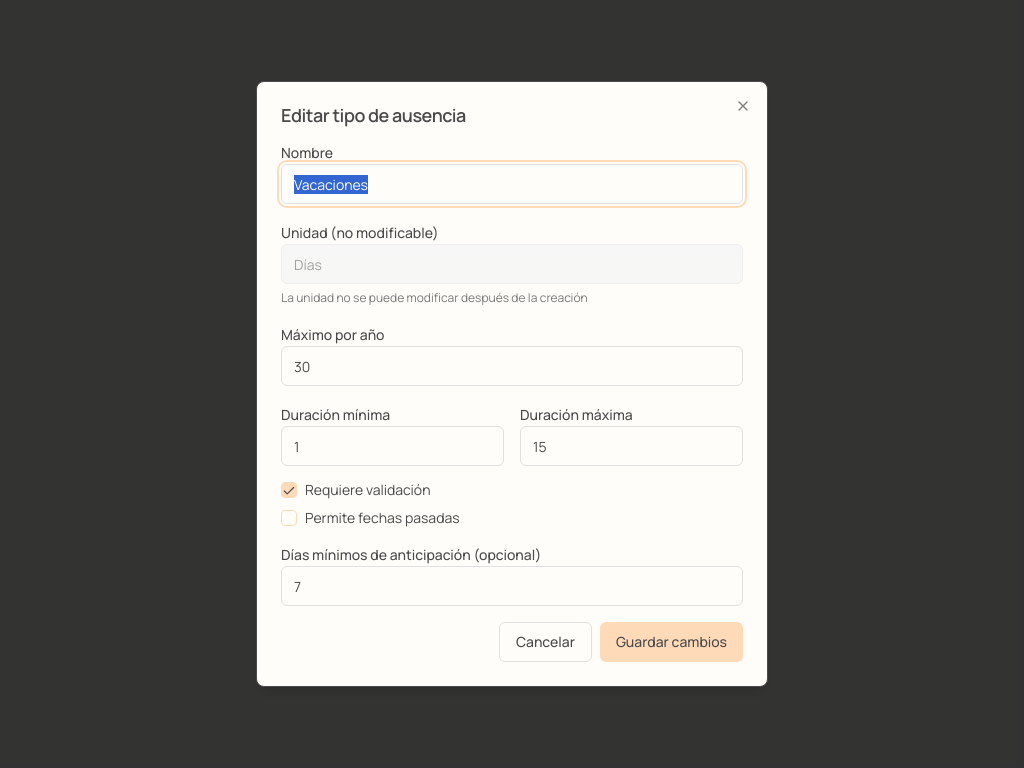
Test case: AbsenceTypeFormDialog: modo editar › muestra error si maxDuration < minDuration en modo edición
Replace the text in the number field labelled "Duración máxima" with "0.5" at (632, 446), box [520,426,743,466]
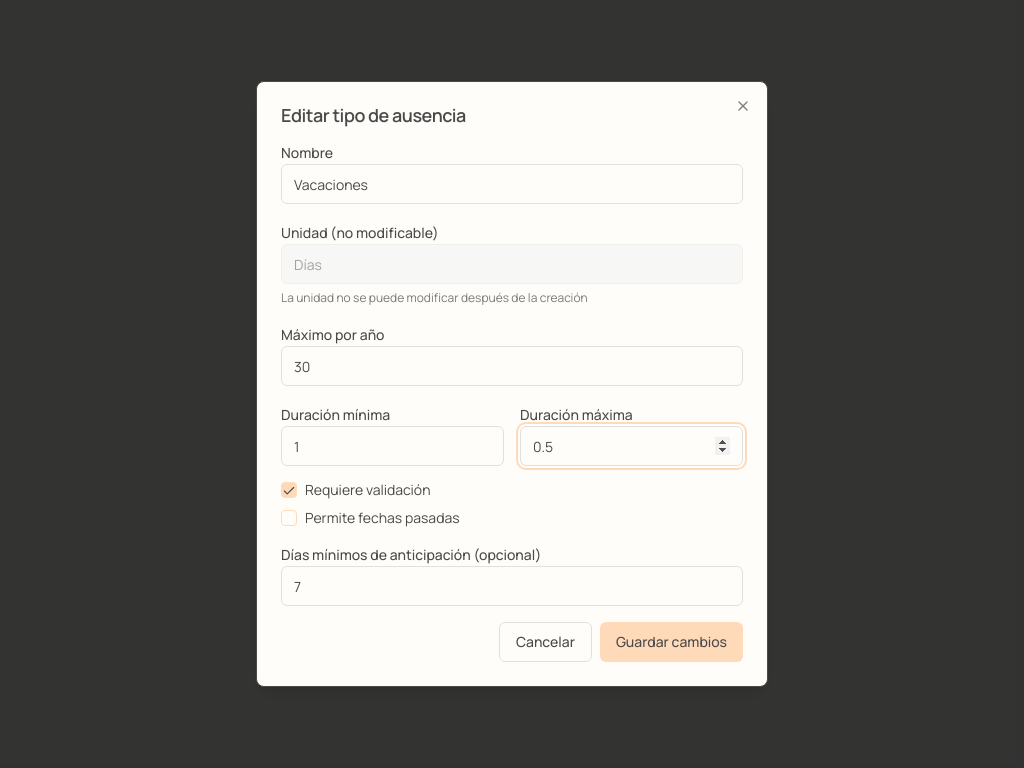
Click the button "Guardar cambios".
click(671, 642)  # box [600,622,743,662]
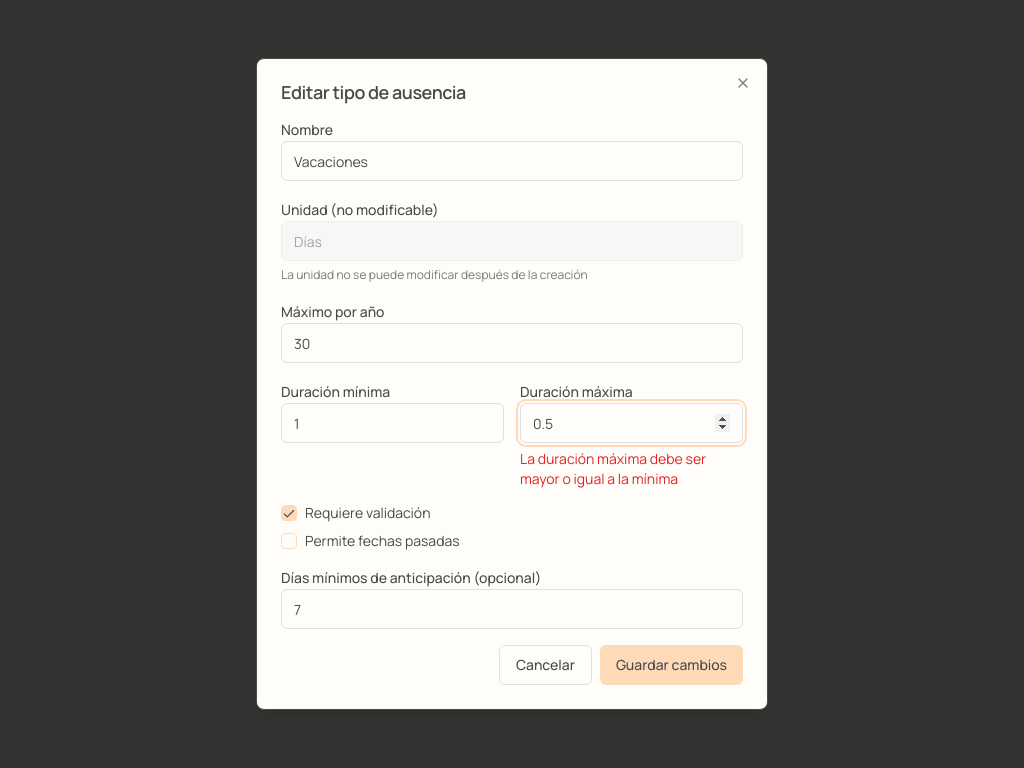
expect the text "La duración máxima debe ser mayor o igual a la mínima" is shown: met, box [520,449,706,488]
